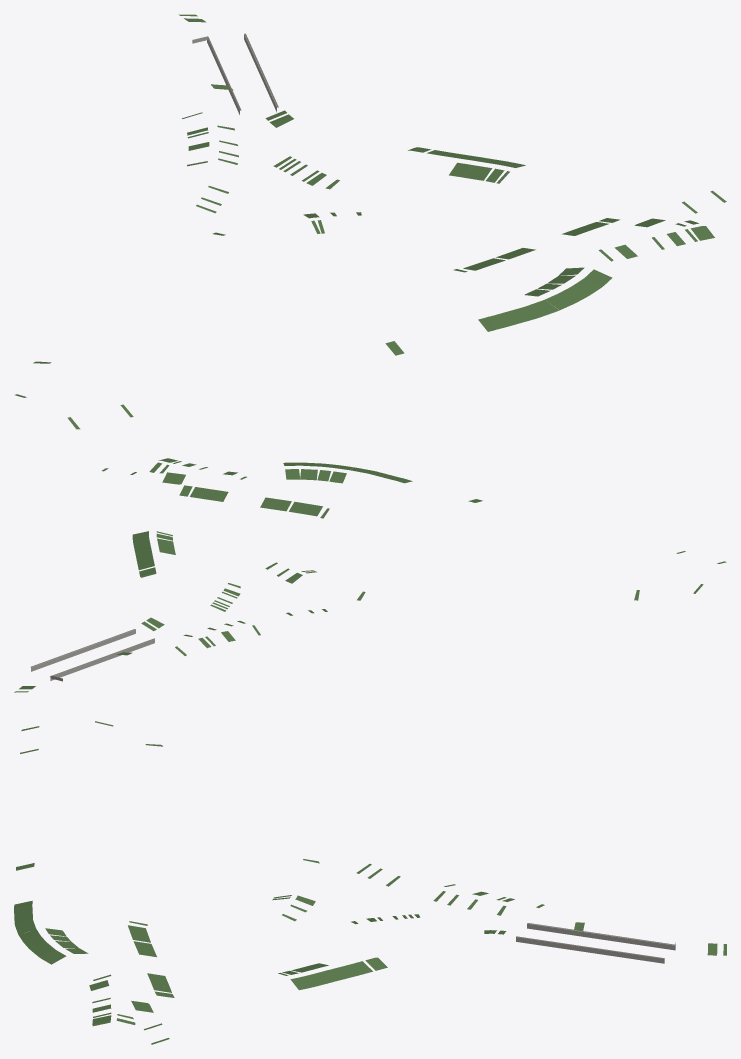
Rendered from br_h27_calgary_trail_2_lod3.gltf.
3 renders of one model, top to bottom at view 1: azimuth 30°, elevation 25°; view 2: azimuth 150°, elevation 25°; view 3: azimuth 270°, elevation 25°, orthographic. The views are drawn at different scales.
Visible parts, largest first — view 1: br_h27_calgary_trail_2_lod3; view 2: br_h27_calgary_trail_2_lod3; view 3: br_h27_calgary_trail_2_lod3.
Part boxes in pixels (x1=…): br_h27_calgary_trail_2_lod3: x1=15, y1=14, x2=726, y2=429; br_h27_calgary_trail_2_lod3: x1=14, y1=458, x2=726, y2=692; br_h27_calgary_trail_2_lod3: x1=14, y1=721, x2=726, y2=1044.
Size of the model in its own units: 979 by 17.95 by 928.
